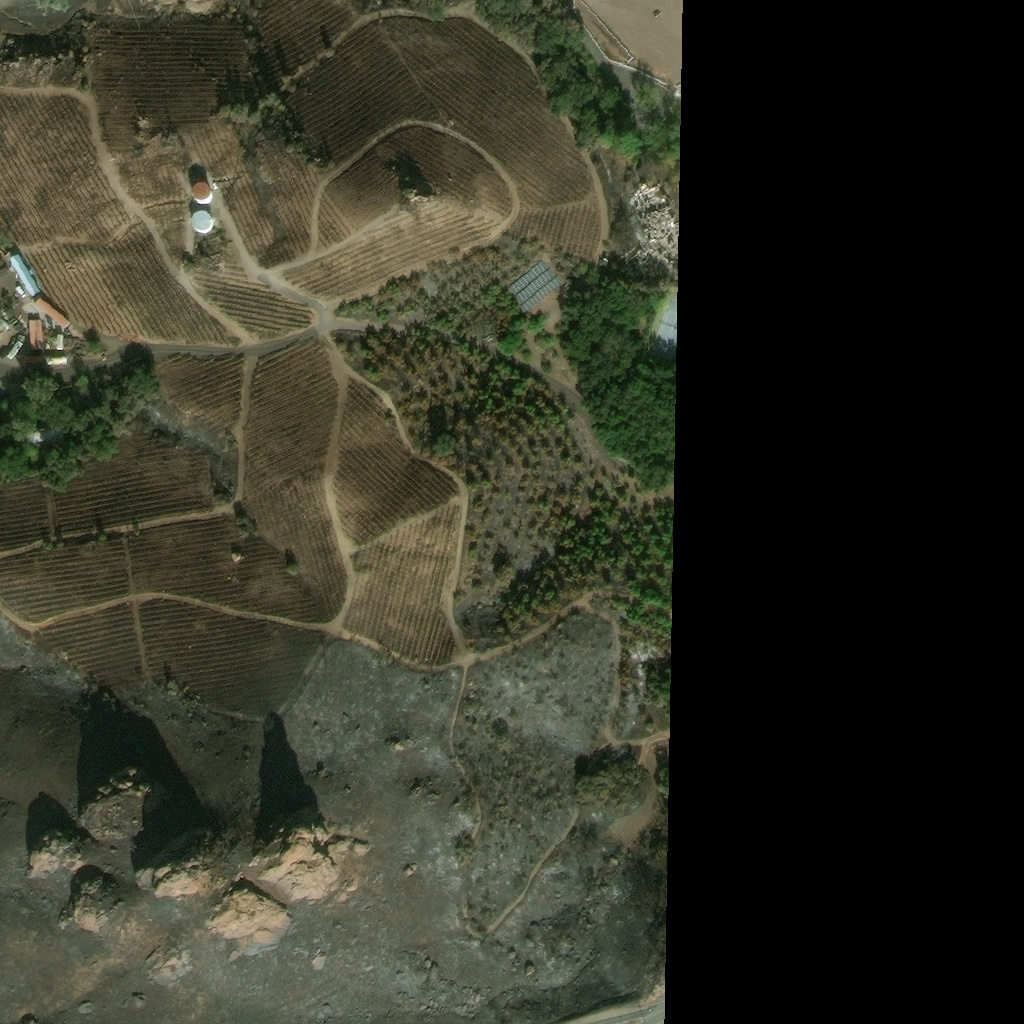0 no-damage: (8, 254, 42, 297), (33, 297, 71, 330), (24, 425, 65, 451), (189, 209, 213, 234), (25, 319, 44, 350), (190, 182, 212, 206), (0, 336, 17, 357), (16, 0, 37, 9), (55, 334, 64, 350)
3 destroyed: (618, 177, 679, 291)
